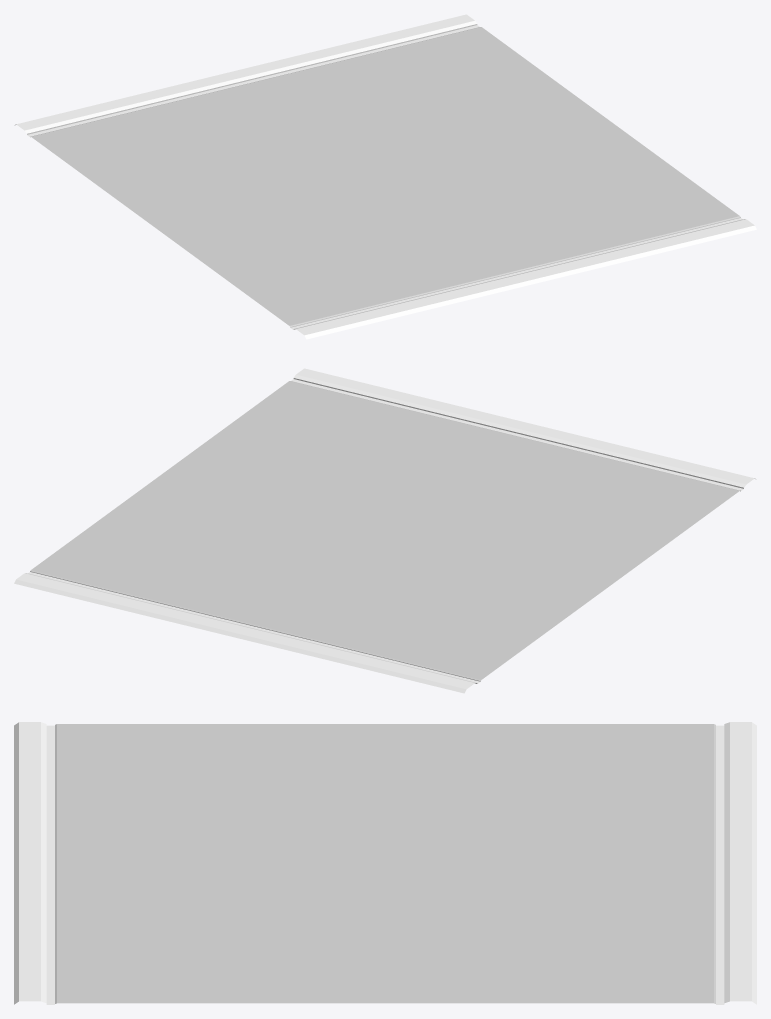
Rendered from straight_road.fbx.
The picture shows the model from 3 angles, top to bottom: view 1: azimuth 30°, elevation 25°; view 2: azimuth 150°, elevation 25°; view 3: azimuth 270°, elevation 25°; orthographic projection. The views are drawn at different scales.
Parts seen in each view (by area): view 1: straight_road; view 2: straight_road; view 3: straight_road.
Boxes of the visible parts, <box> form: straight_road: <box>14,14,756,339</box>; straight_road: <box>14,368,756,693</box>; straight_road: <box>14,722,756,1004</box>.
Size of the model in its own units: 5.98 by 0.0341 by 6.72.
